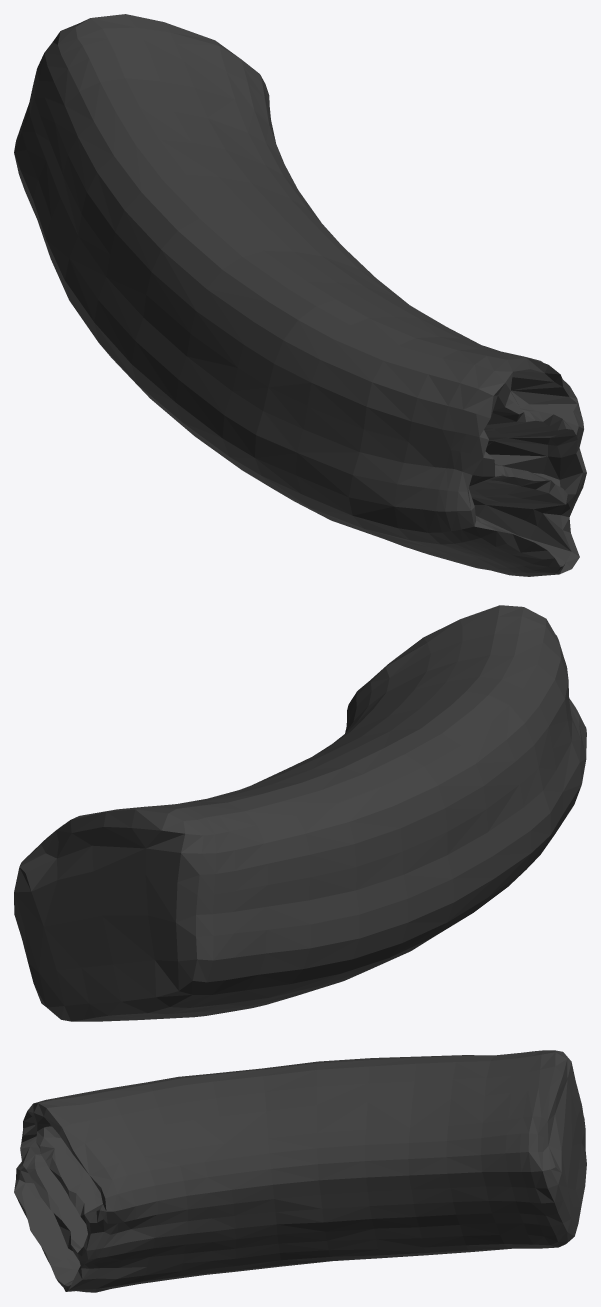
3 views of the same model, one above another, from view 1: azimuth 30°, elevation 25°; view 2: azimuth 150°, elevation 25°; view 3: azimuth 270°, elevation 25° (orthographic). The views are drawn at different scales.
Parts seen in each view (by area): view 1: world; view 2: world; view 3: world.
Part boxes in pixels (<box>): world: <box>14,14,586,576</box>; world: <box>14,605,586,1021</box>; world: <box>14,1050,586,1292</box>.
Bounding box in the file's own units: 0.1594 × 0.163 × 0.4005.
1 material, 1 textured.
